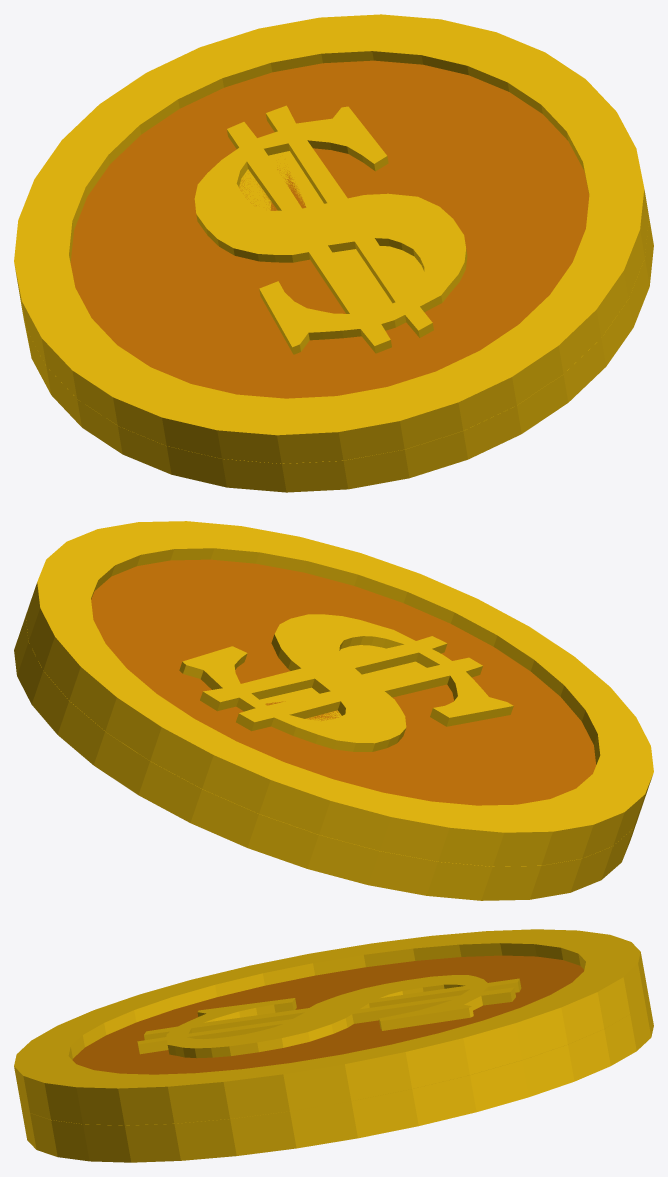
Rendered from CoinTwoSide.fbx.
3 views of the same model, one above another, from view 1: azimuth 30°, elevation 25°; view 2: azimuth 150°, elevation 25°; view 3: azimuth 270°, elevation 25° (orthographic).
Visible parts, largest first — view 1: cylinder; view 2: cylinder; view 3: cylinder.
Boxes of the visible parts, <box> form: cylinder: <box>14,14,653,492</box>; cylinder: <box>14,521,653,900</box>; cylinder: <box>14,929,653,1162</box>.
Size of the model in its own units: 199 by 82.91 by 201.
